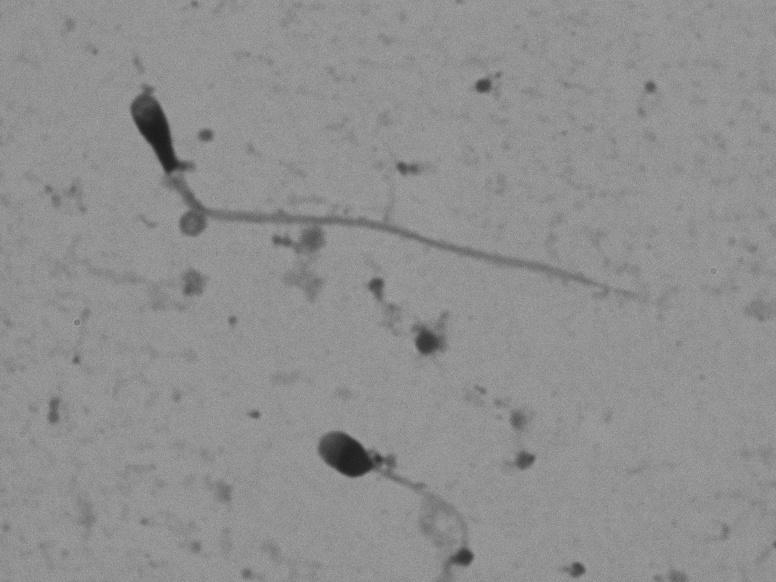Abnormal: (75, 63, 678, 309), (287, 415, 506, 570)
